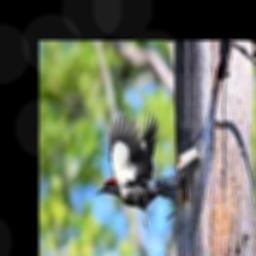Woodpecker: (93, 110, 181, 230)
